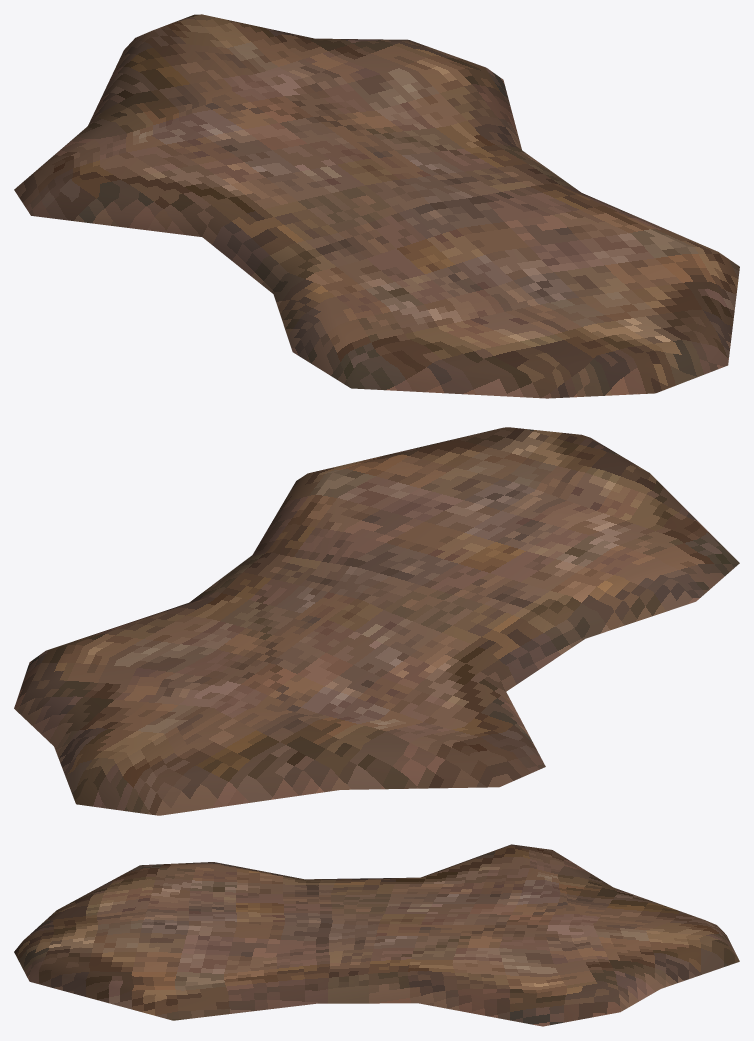
File: con_gen_organic_hide_bristly_l2.fbx
The picture shows the model from 3 angles, top to bottom: view 1: azimuth 30°, elevation 25°; view 2: azimuth 150°, elevation 25°; view 3: azimuth 270°, elevation 25°; orthographic projection. The views are drawn at different scales.
Parts seen in each view (by area): view 1: mesh_node; view 2: mesh_node; view 3: mesh_node.
Boxes of the visible parts, x1,y1,x2,y2 form: mesh_node: (14, 14, 739, 398); mesh_node: (14, 427, 739, 815); mesh_node: (14, 844, 739, 1026).
Bounding box in the file's own units: 1.14 × 0.0774 × 1.97.
1 material, 1 textured.
